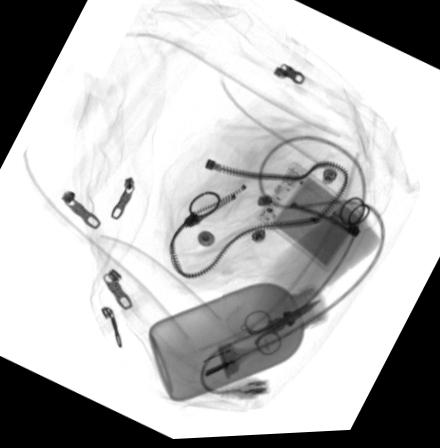Powerbank: (252, 164, 371, 278)
Scissors: (244, 301, 321, 358)
